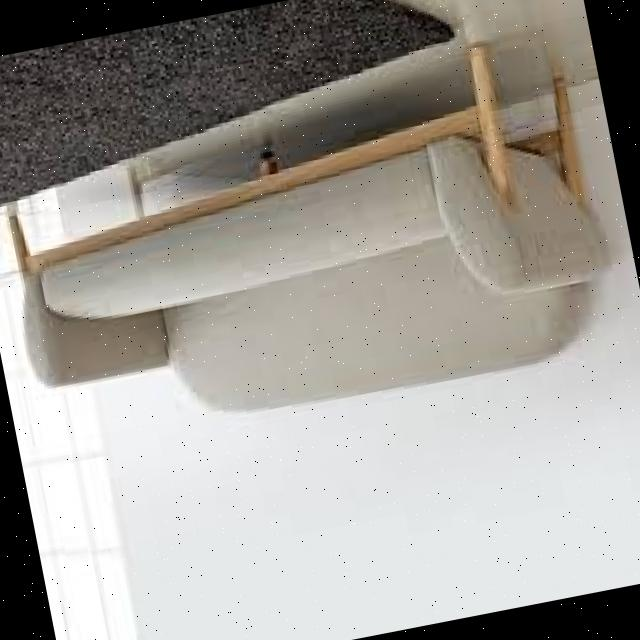Sofa: (0, 22, 640, 502)
